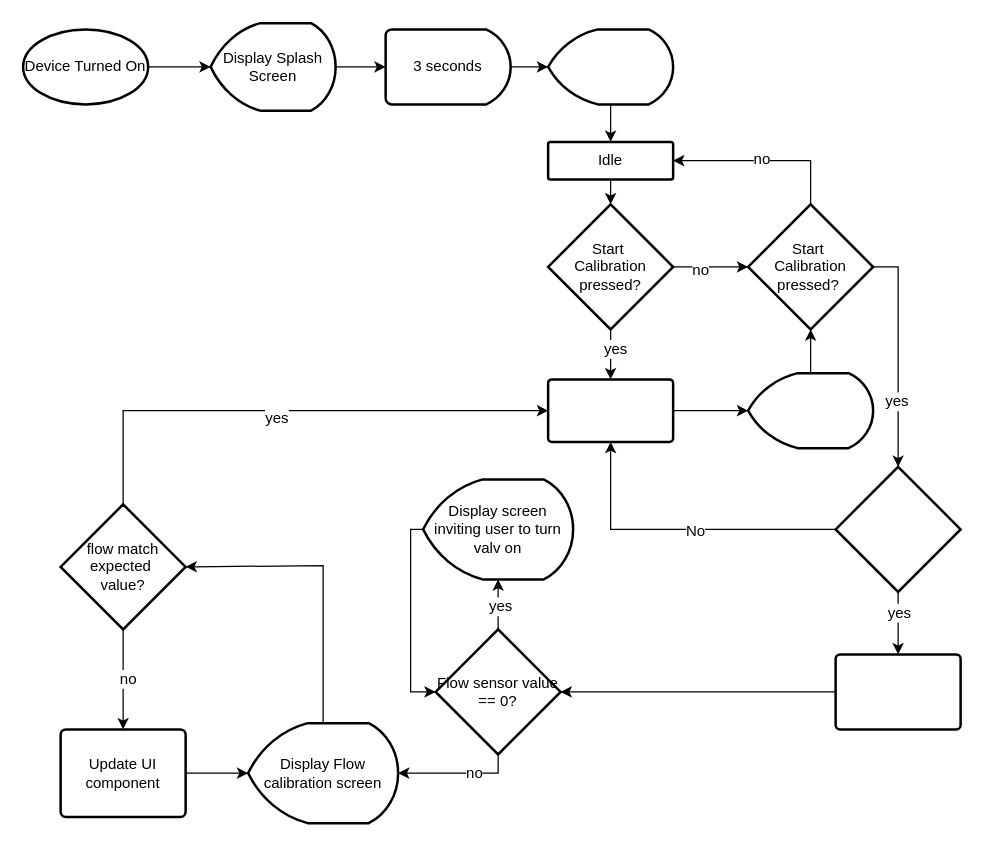
Some shapes in this 983 by 845 pixel diagram are drawn without their labels. The shapes that lost their labels are listed below. From the top down, each one's box as (x1, y1, x2, y2) in pixels, then its label:
(546, 28, 674, 105): Display Idle Screen
(546, 378, 674, 442): Read Sensor Value and match with 20.9 % O2
(746, 371, 874, 449): Display O2 Value
(834, 465, 961, 592): Calibration already done?
(834, 652, 961, 730): Read Flow Sensor value
